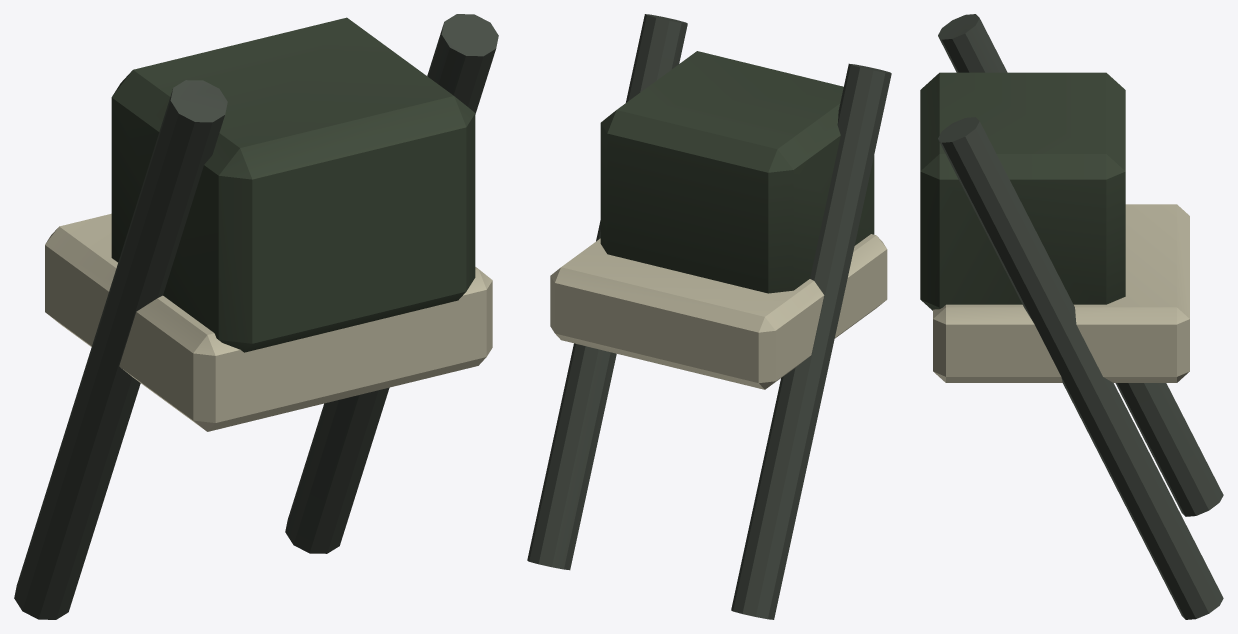
The model's file is arm_support_left.glb.
3 views of the same model, side by side, from view 1: azimuth 30°, elevation 25°; view 2: azimuth 150°, elevation 25°; view 3: azimuth 270°, elevation 25° (orthographic). The views are drawn at different scales.
Parts seen in each view (by area): view 1: Extended_support_sleeve, Support_grip_cuff, Support_extension_rail, Support_extension_rail.001; view 2: Extended_support_sleeve, Support_grip_cuff, Support_extension_rail, Support_extension_rail.001; view 3: Extended_support_sleeve, Support_extension_rail.001, Support_grip_cuff, Support_extension_rail.
Part boxes in pixels (left/top/right/bottom): Extended_support_sleeve: left=111, top=17, right=475, bottom=352; Support_grip_cuff: left=45, top=213, right=492, bottom=431; Support_extension_rail: left=14, top=80, right=227, bottom=619; Support_extension_rail.001: left=285, top=14, right=498, bottom=553; Extended_support_sleeve: left=600, top=51, right=874, bottom=293; Support_grip_cuff: left=550, top=234, right=887, bottom=389; Support_extension_rail: left=731, top=63, right=891, bottom=619; Support_extension_rail.001: left=527, top=14, right=687, bottom=570; Extended_support_sleeve: left=920, top=72, right=1125, bottom=310; Support_extension_rail.001: left=938, top=117, right=1223, bottom=619; Support_grip_cuff: left=933, top=204, right=1189, bottom=382; Support_extension_rail: left=938, top=14, right=1223, bottom=516.
Size of the model in its own units: 0.2242 by 0.4251 by 0.2363.
